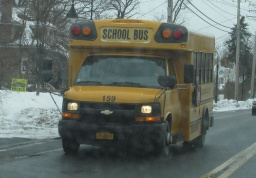bus: (59, 10, 219, 160)
